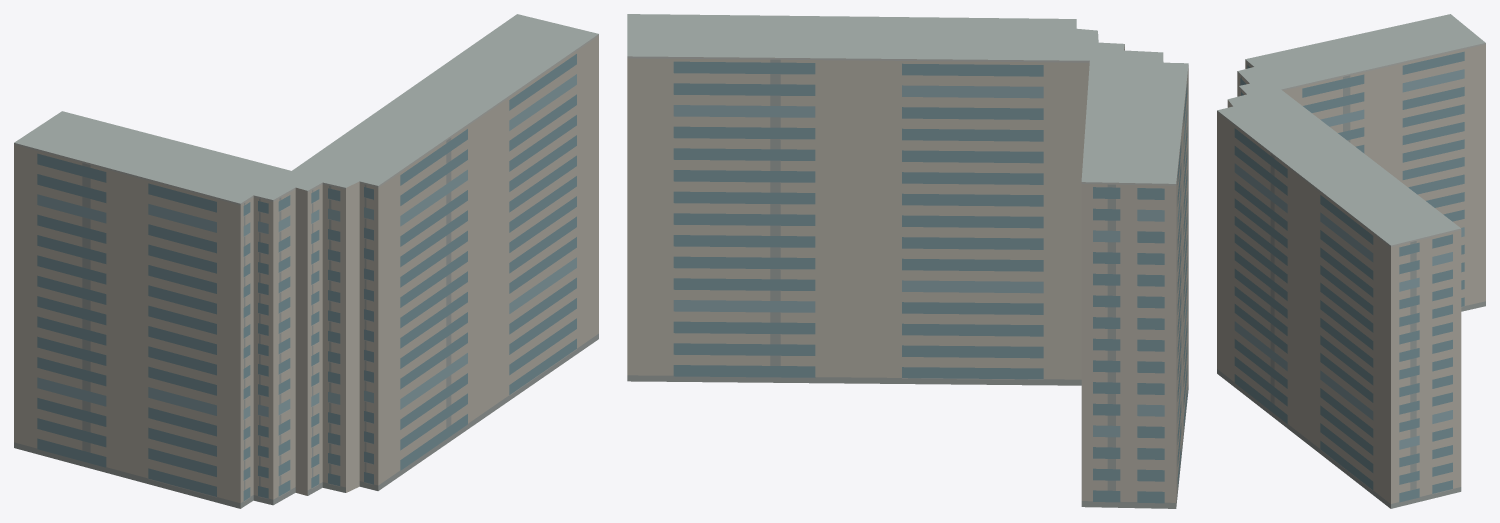
File: residential-e1788123-8ee7-4880-a6f1-230676b4fa56.glb
3 renders of one model, left to right at view 1: azimuth 30°, elevation 25°; view 2: azimuth 150°, elevation 25°; view 3: azimuth 270°, elevation 25°, orthographic. The views are drawn at different scales.
Visible parts, largest first — view 1: residential-e1788123-8ee7-4880-a6f1-230676b4fa56.tmp; view 2: residential-e1788123-8ee7-4880-a6f1-230676b4fa56.tmp; view 3: residential-e1788123-8ee7-4880-a6f1-230676b4fa56.tmp.
Boxes of the visible parts, x1,y1,x2,y2 form: residential-e1788123-8ee7-4880-a6f1-230676b4fa56.tmp: (14,14,598,508); residential-e1788123-8ee7-4880-a6f1-230676b4fa56.tmp: (627,14,1188,508); residential-e1788123-8ee7-4880-a6f1-230676b4fa56.tmp: (1217,14,1485,508).
Size of the model in its own units: 79.24 by 42 by 38.86.
